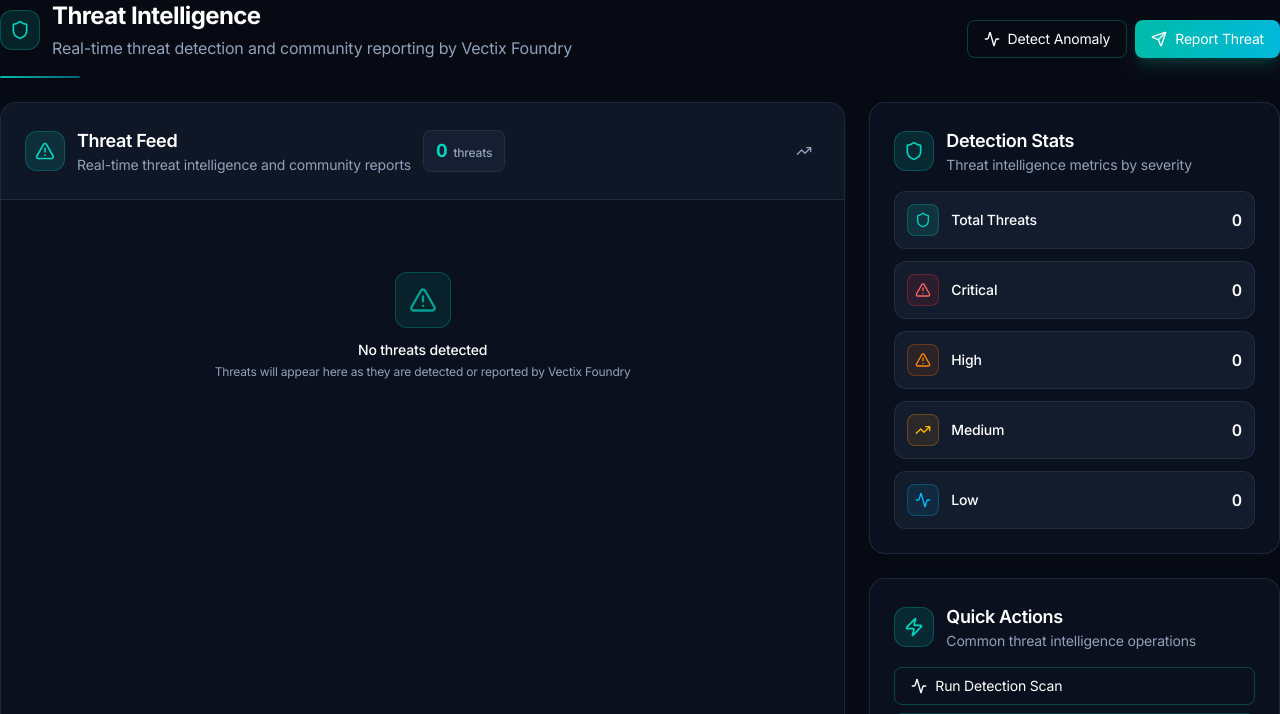
Test: ThreatIntelligencePage › displays detection result when anomaly is detected
Click the button "Detect Anomaly" at (1047, 39), box [966,20,1127,58]
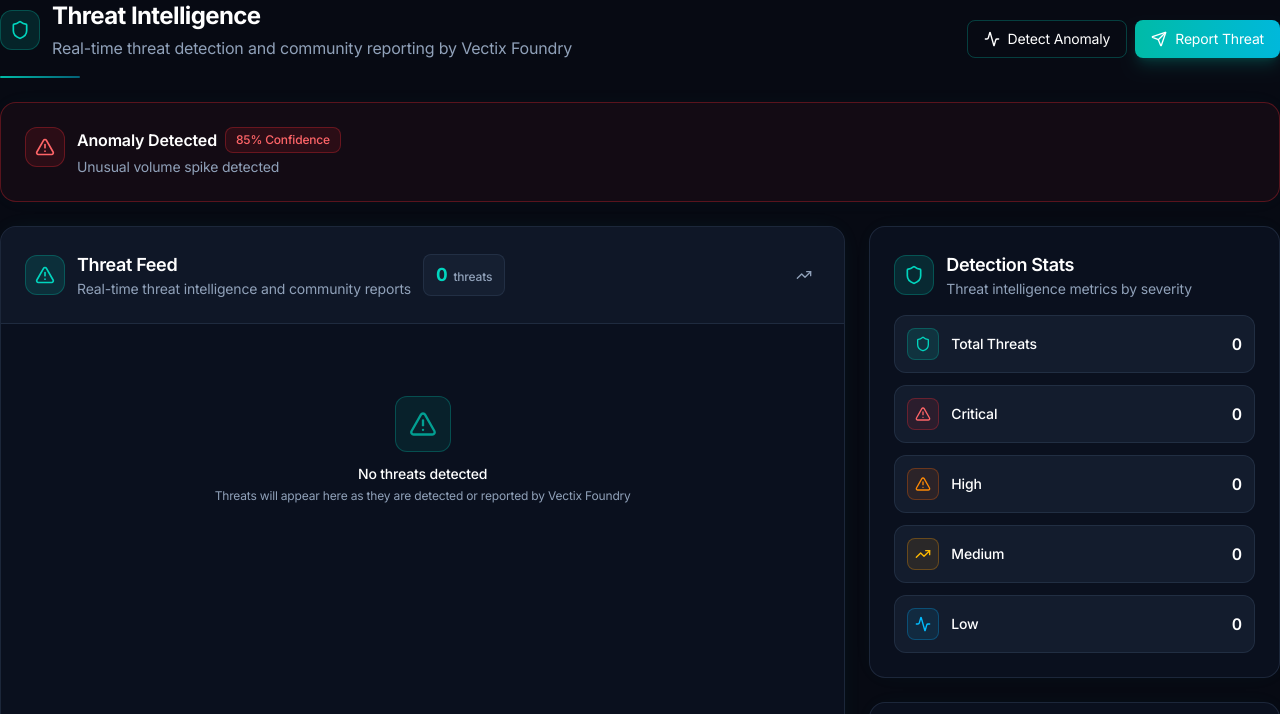
Check: the text "Anomaly Detected" is shown, box [77,128,217,152]
Check: the text "Unusual volume spike detected" is shown, box [77,158,279,175]
Check: the text "85% Confidence" is shown, box [225,127,341,153]
